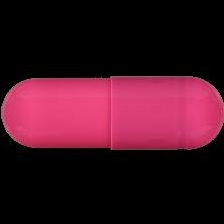10544-154: (0, 0, 224, 224)
